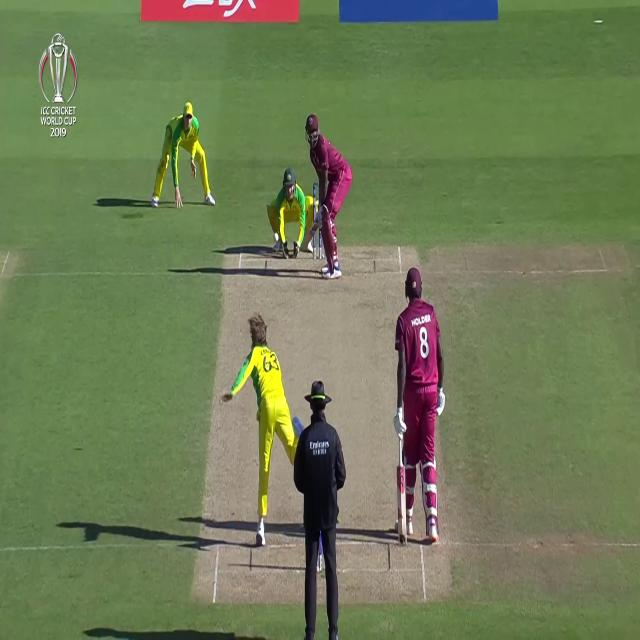ball: (272, 228, 279, 244)
